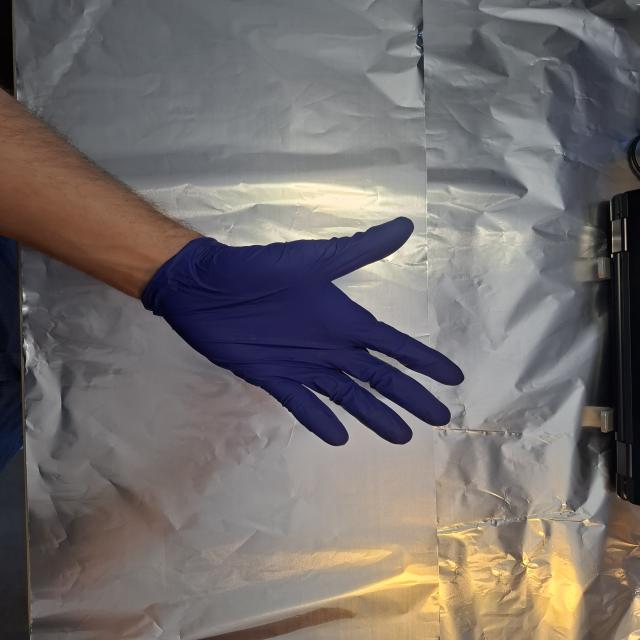glove_on: (144, 214, 468, 448)
